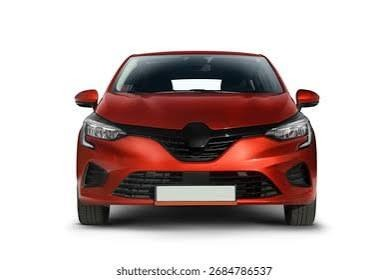car: (66, 51, 327, 230), (65, 50, 328, 223)
